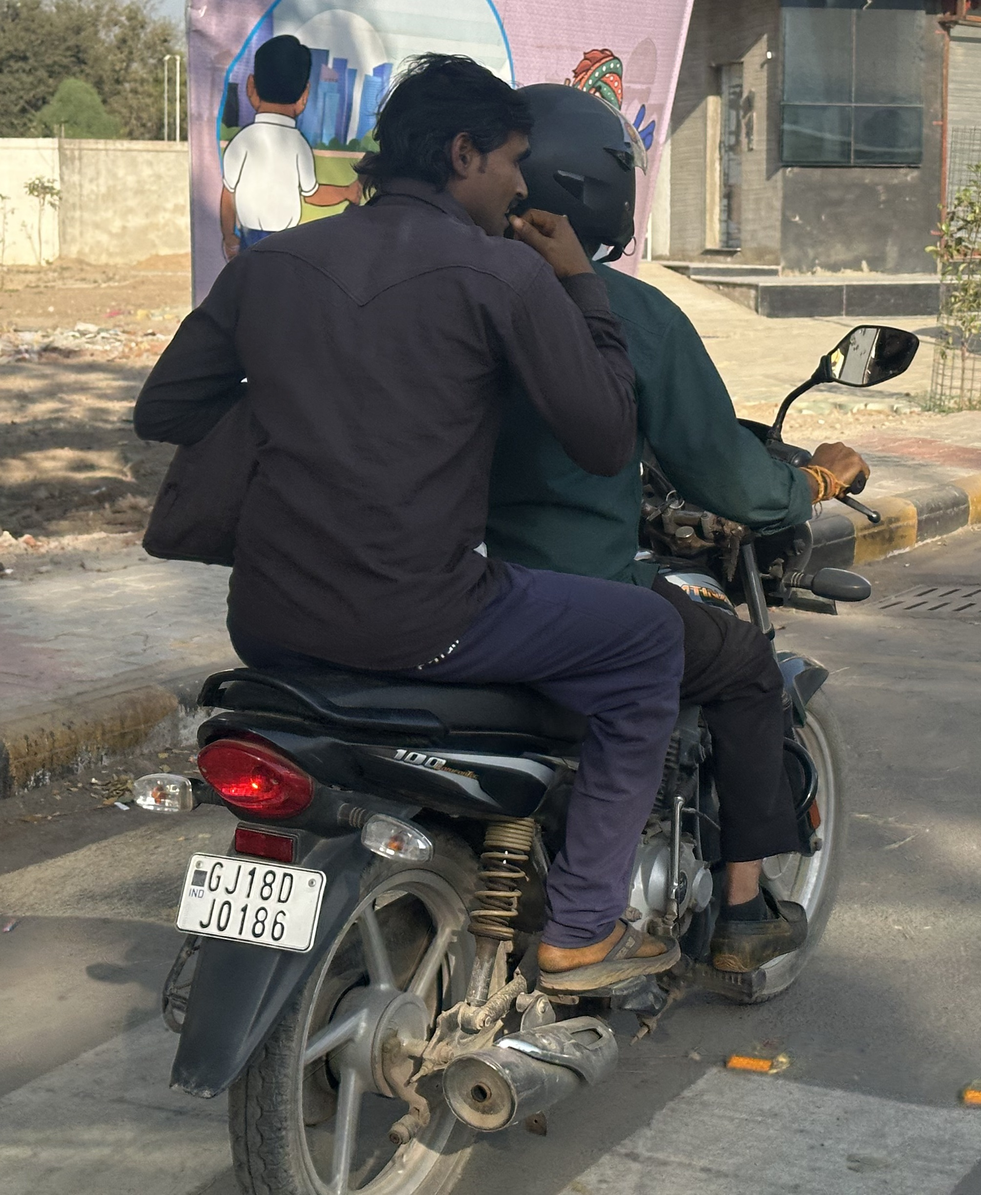BikeWithRider: (124, 52, 921, 1195)
Helmet: (503, 75, 648, 272)
NoHelmet: (351, 54, 537, 251)
